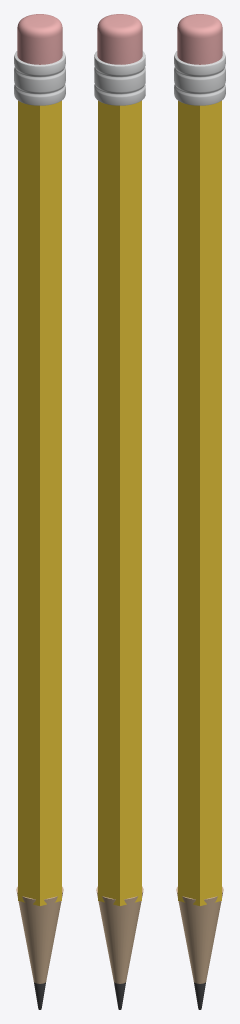
Rendered from pencil.glb.
3 views of the same model, side by side, from view 1: azimuth 90°, elevation 25°; view 2: azimuth 150°, elevation 25°; view 3: azimuth 270°, elevation 25° (orthographic).
Parts seen in each view (by area): view 1: Pencil_body, Pencil_wood, Pencil_ferrule, Pencil_eraser, Pencil_point; view 2: Pencil_body, Pencil_wood, Pencil_ferrule, Pencil_eraser, Pencil_point; view 3: Pencil_body, Pencil_wood, Pencil_ferrule, Pencil_eraser, Pencil_point.
Part boxes in pixels (x1,y1,x2,y2): Pencil_body: (18,101,61,905); Pencil_wood: (16,886,63,983); Pencil_ferrule: (14,51,65,105); Pencil_eraser: (17,14,62,64); Pencil_point: (34,982,45,1009); Pencil_body: (98,100,141,905); Pencil_wood: (96,886,143,983); Pencil_ferrule: (94,51,145,105); Pencil_eraser: (97,14,142,64); Pencil_point: (114,982,125,1009); Pencil_body: (178,101,221,905); Pencil_wood: (176,886,223,983); Pencil_ferrule: (174,51,225,105); Pencil_eraser: (177,14,222,64); Pencil_point: (194,982,205,1009).
Bounding box in the file's own units: 0.0082 × 0.173 × 0.0082.
